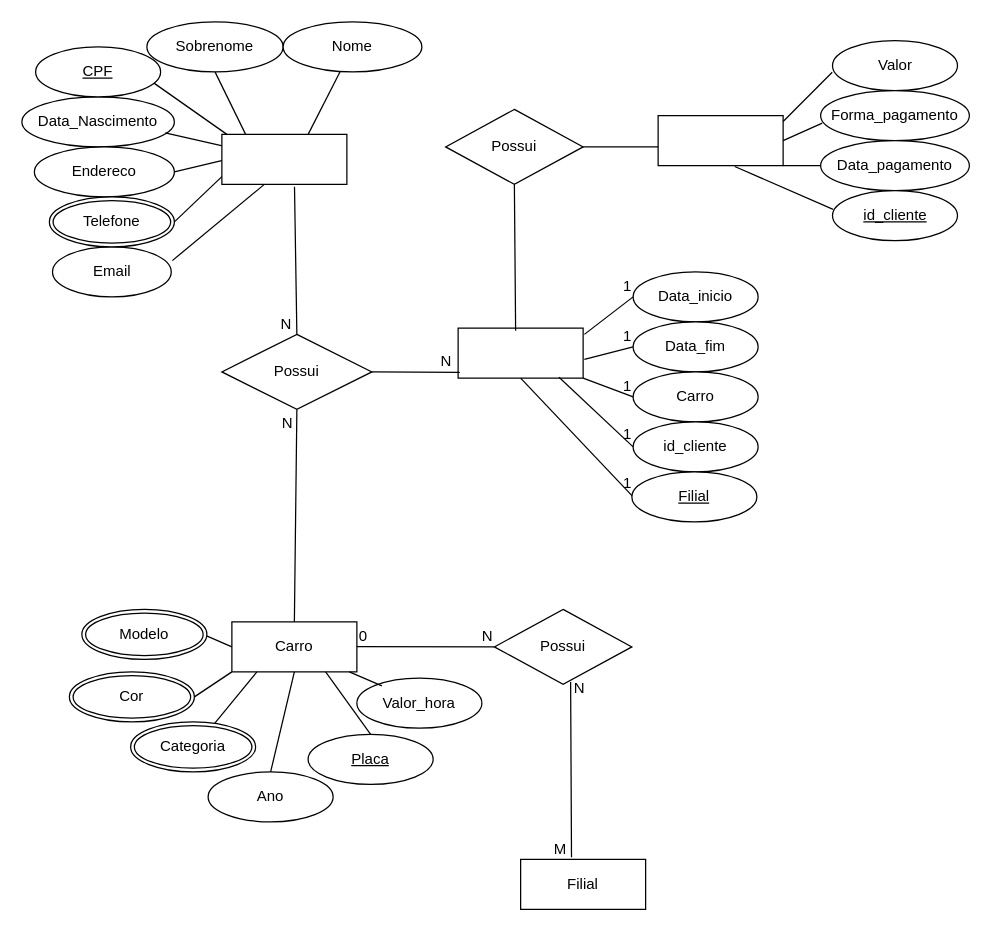
The diagram is 991 pixels wide and 931 high, and some of its shapes have lost their labels. Here are the shapes that lost their labels. From the top down, the centre of each, then its label:
point (284, 158): Cliente
point (720, 140): Pagamento
point (520, 352): Locacao
